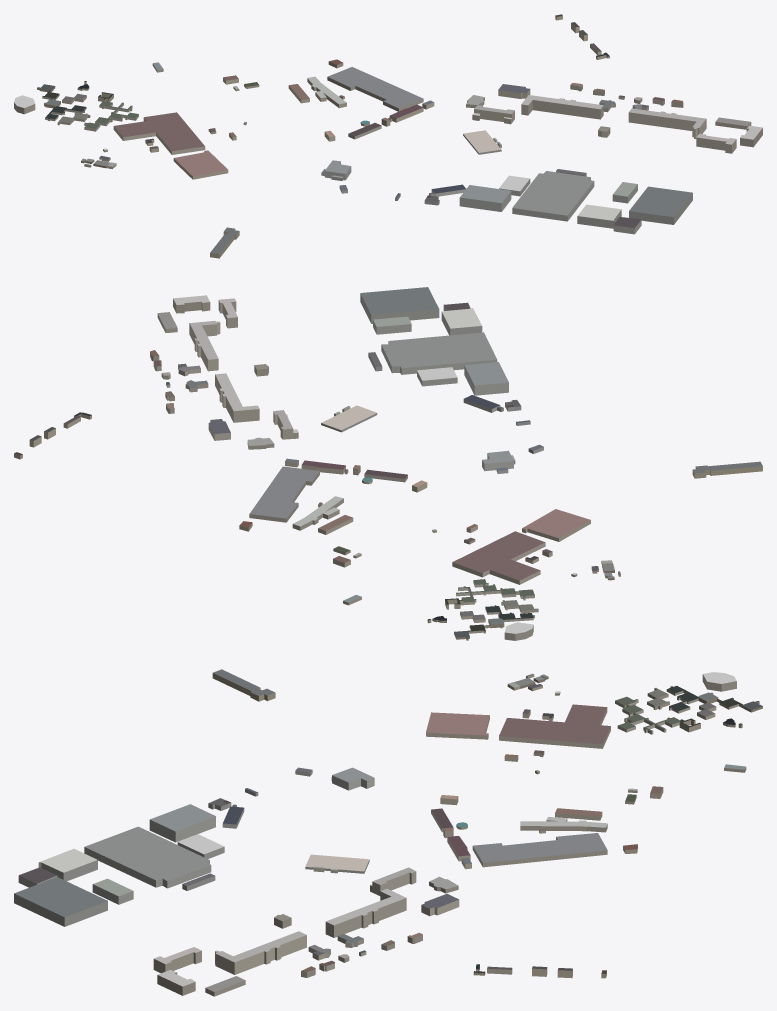
3 renders of one model, top to bottom at view 1: azimuth 30°, elevation 25°; view 2: azimuth 150°, elevation 25°; view 3: azimuth 270°, elevation 25°, orthographic. The views are drawn at different scales.
Visible parts, largest first — view 1: tuile; view 2: tuile; view 3: tuile.
Part boxes in pixels (<box>): tuile: <box>14,14,762,258</box>; tuile: <box>14,287,762,640</box>; tuile: <box>14,669,762,996</box>.
Bounding box in the file's own units: 996 × 24.92 × 969.
